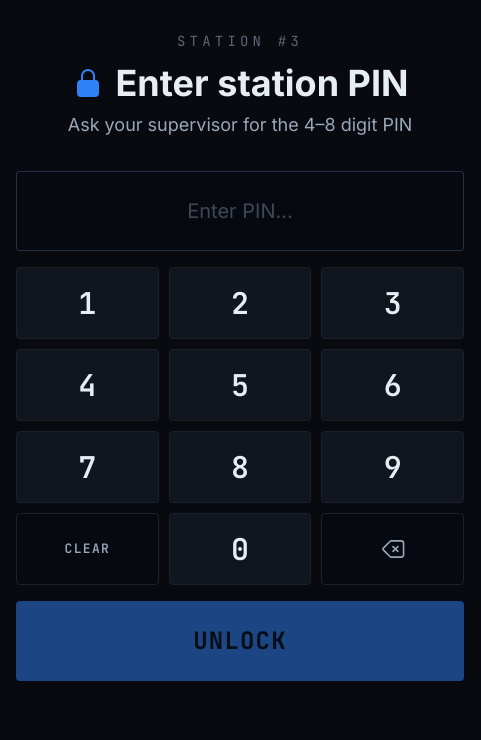
Test: CrewStationKiosk › PIN unlock: shows the server rejection verbatim
Click the button "9". click: (393, 467)
box: [321,431,464,503]
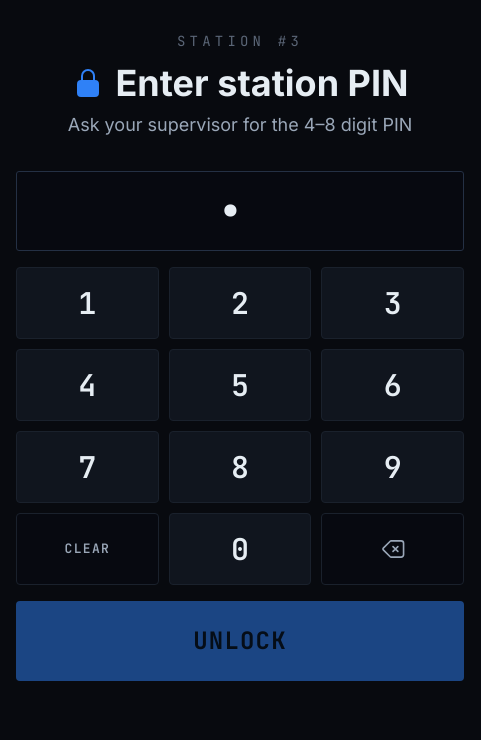
Click the button "9". click: (393, 467)
box: [321,431,464,503]
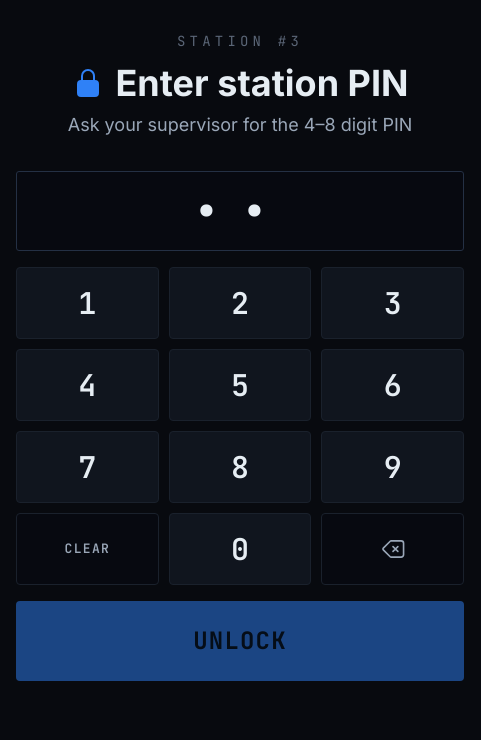
Click the button "9". click: (393, 467)
box: [321,431,464,503]
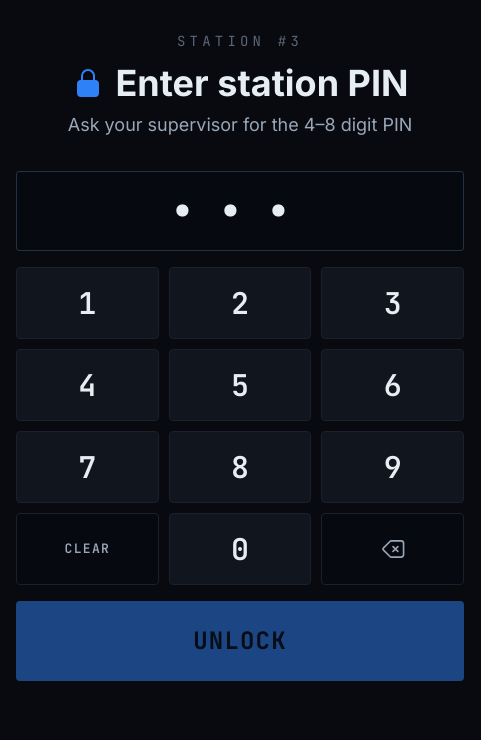
Click the button "9". click: (393, 467)
box: [321,431,464,503]
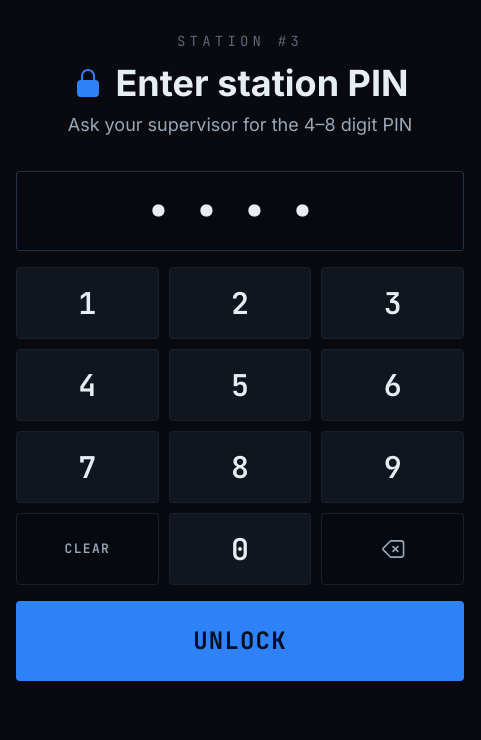
Click the button "Unlock". click: (240, 641)
box: [16,601,464,681]
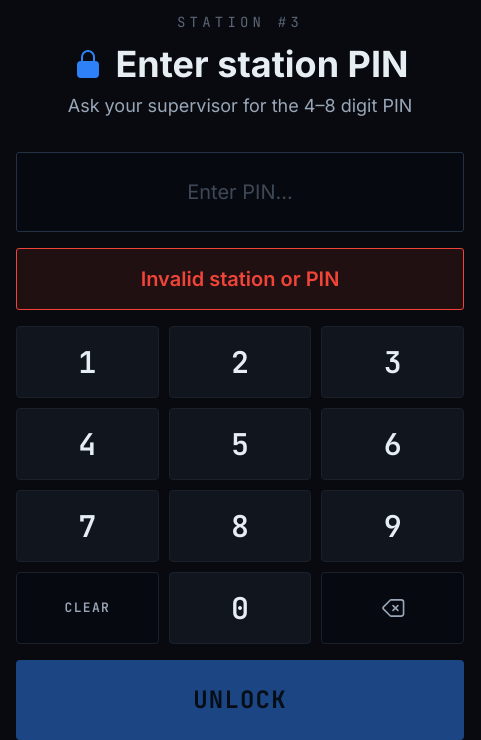
Expected: the heading "Enter station PIN" is shown, [72,42,408,86]
Now the message reads "Invalid station or PIN", box [141,267,339,291]
